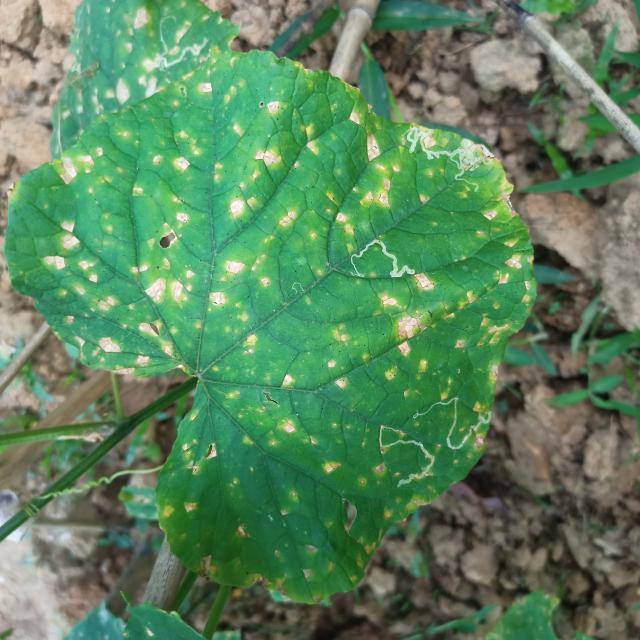disease_cucumber: (38, 79, 533, 579), (43, 0, 209, 115)
